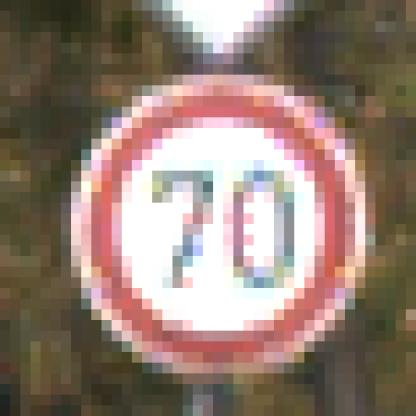Speed Limit 70: (83, 83, 356, 364)
